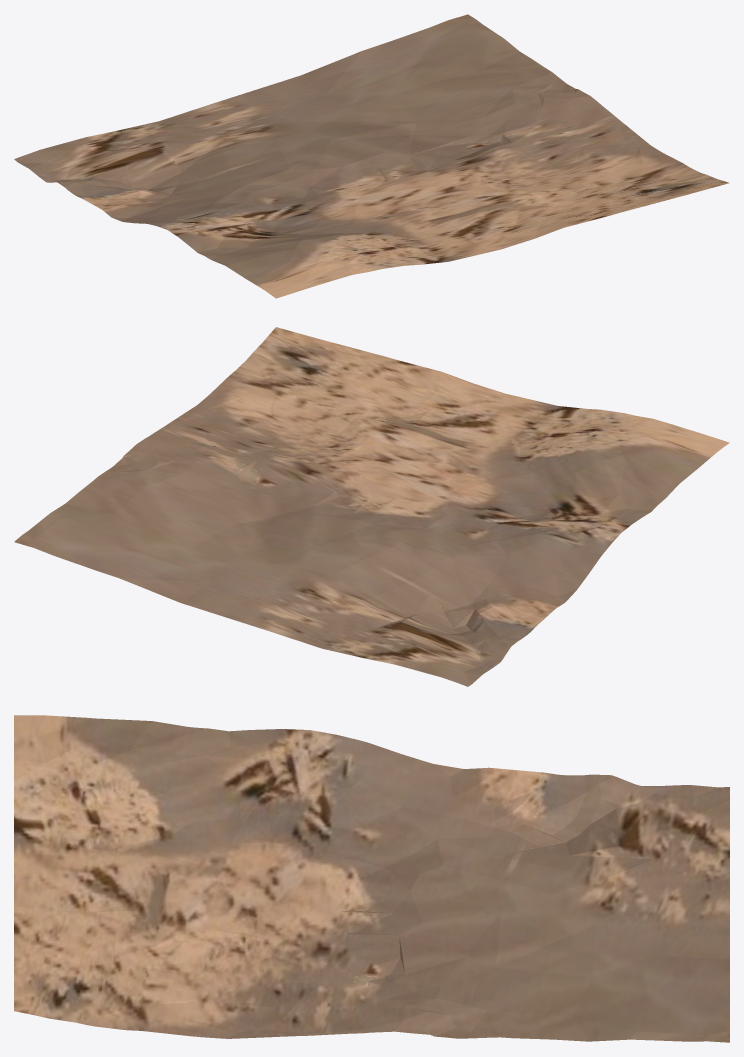
The picture shows the model from 3 angles, top to bottom: view 1: azimuth 30°, elevation 25°; view 2: azimuth 150°, elevation 25°; view 3: azimuth 270°, elevation 25°; orthographic projection. The views are drawn at different scales.
Bounding box in the file's own units: 1.04 × 0.1367 × 1.04.
2 materials, 2 textured.
